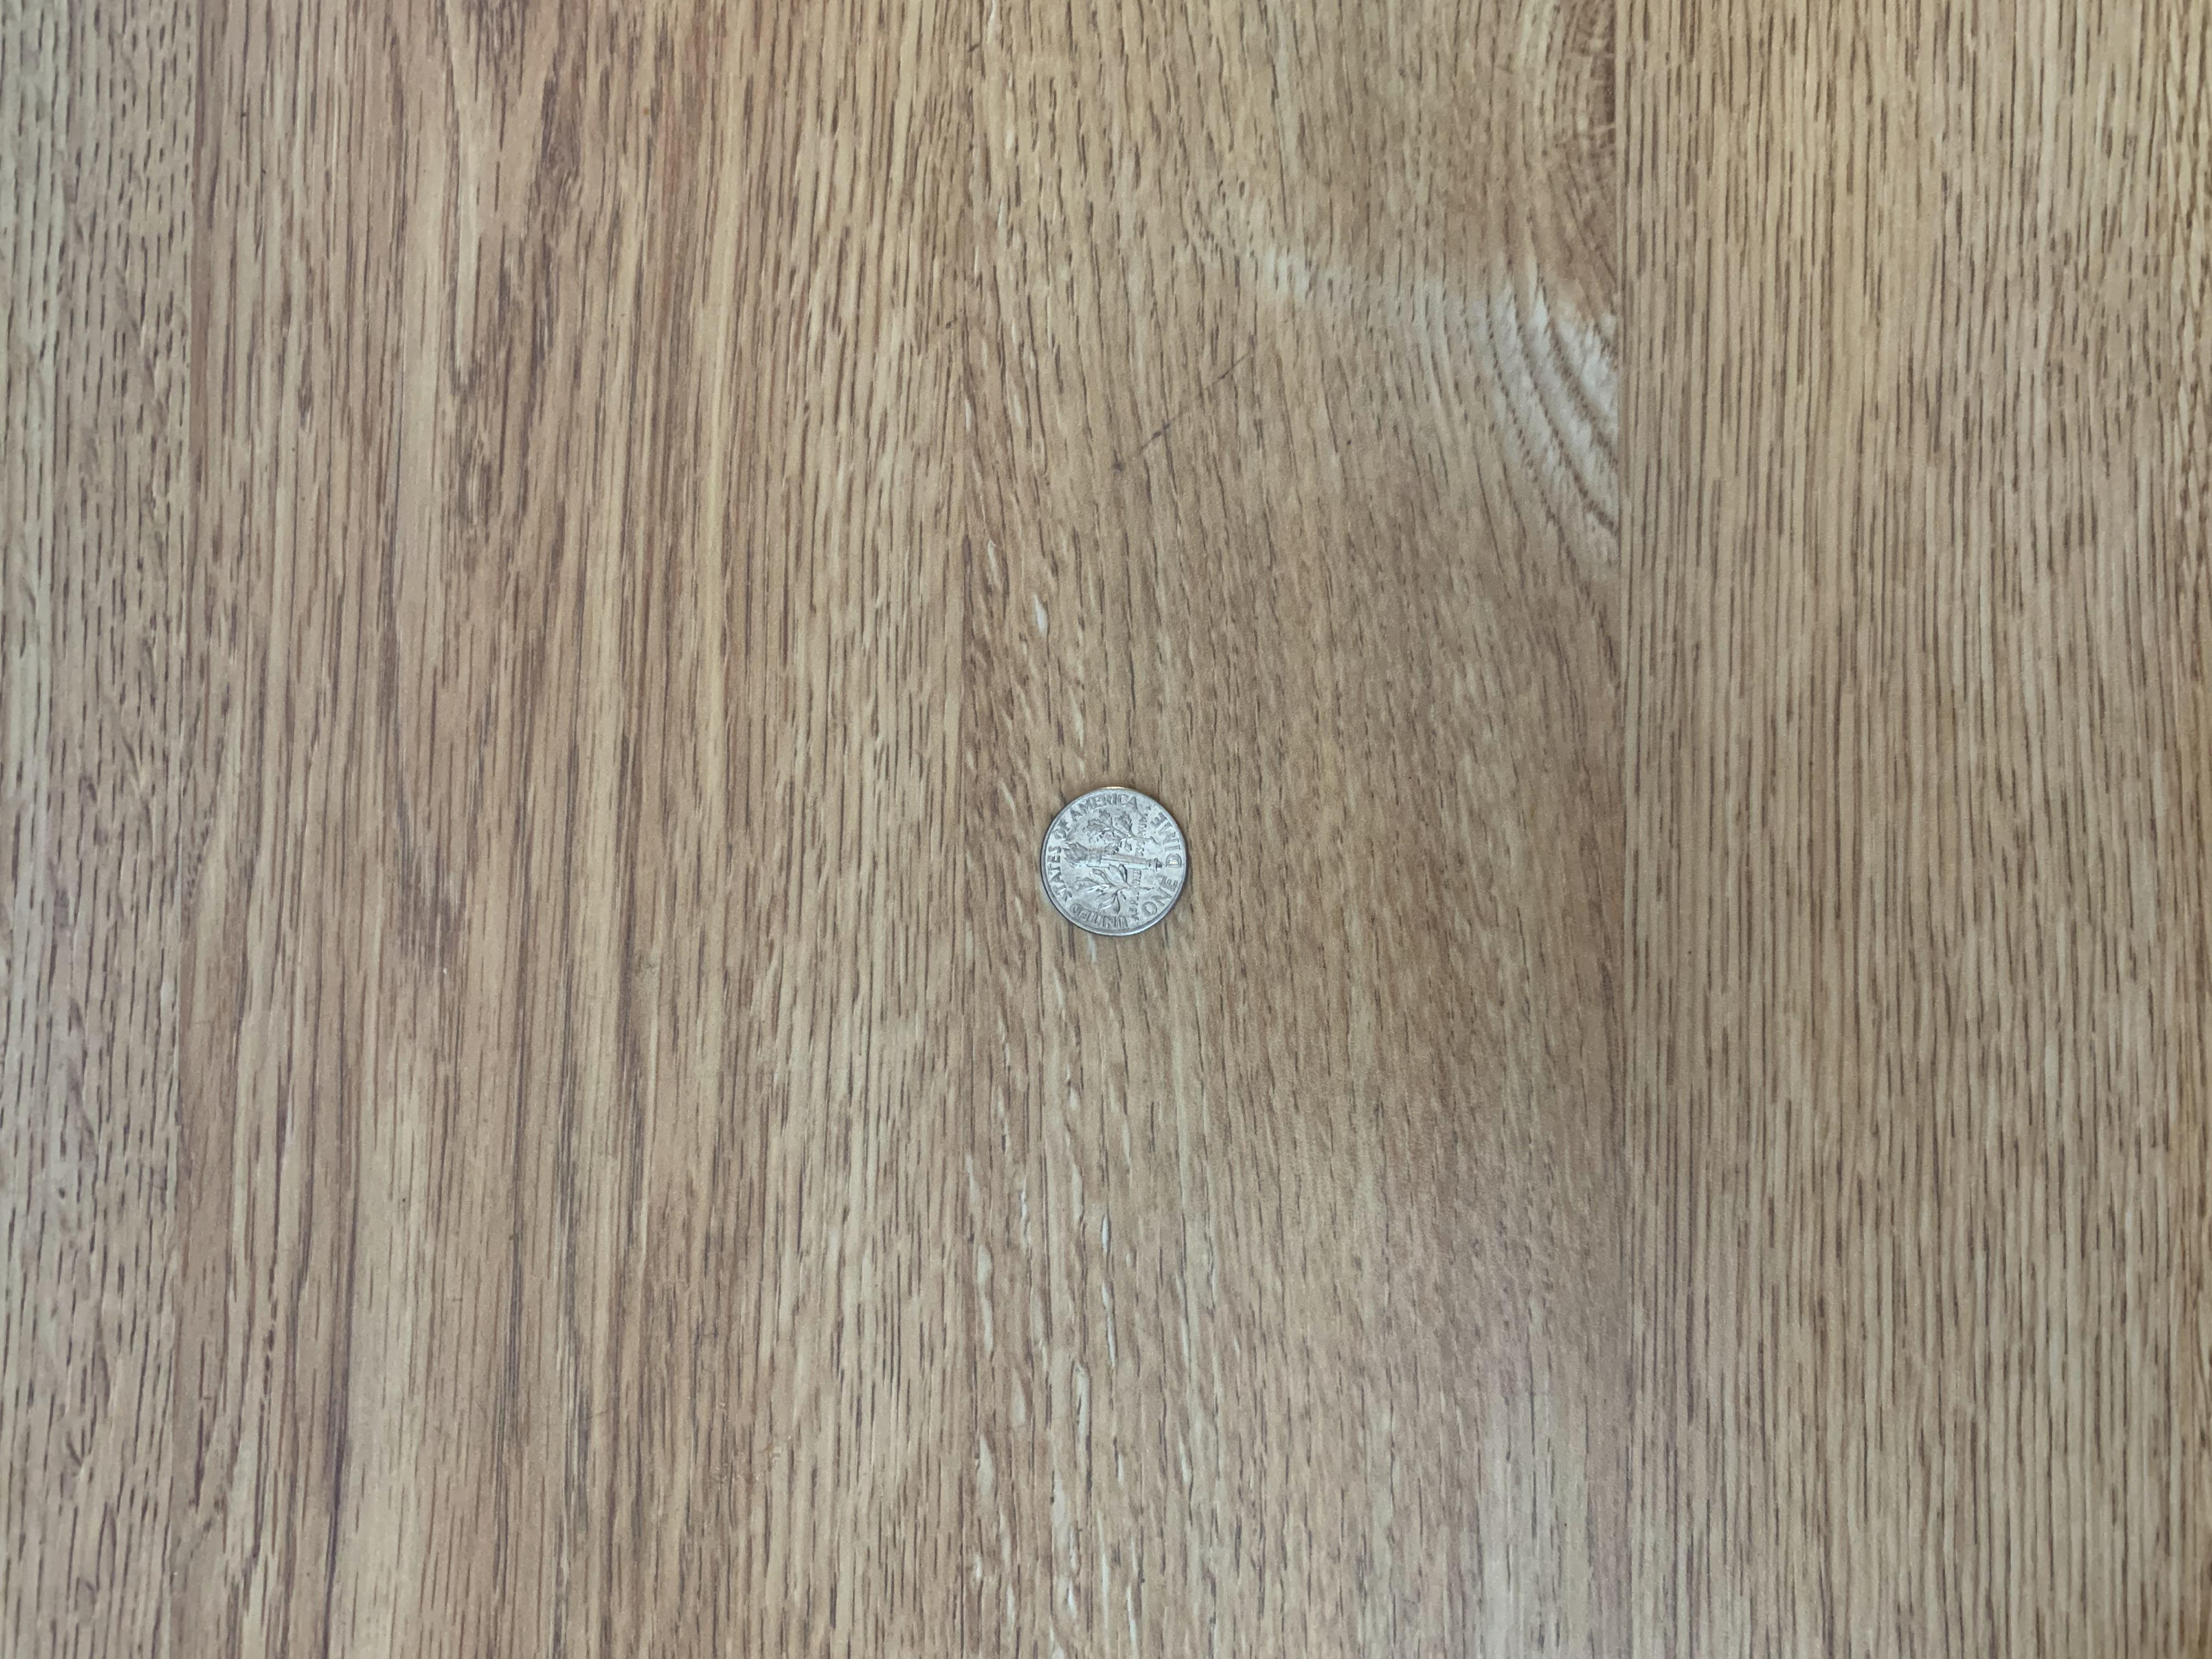Dime: (1028, 784, 1204, 941)
